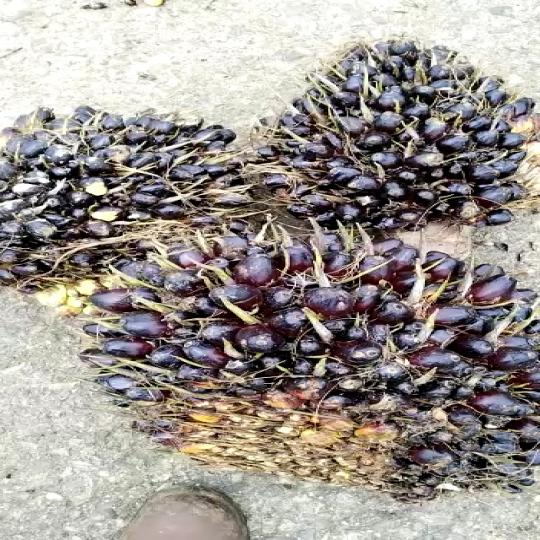mentah: (78, 212, 540, 498), (234, 31, 540, 242), (0, 86, 248, 280)
